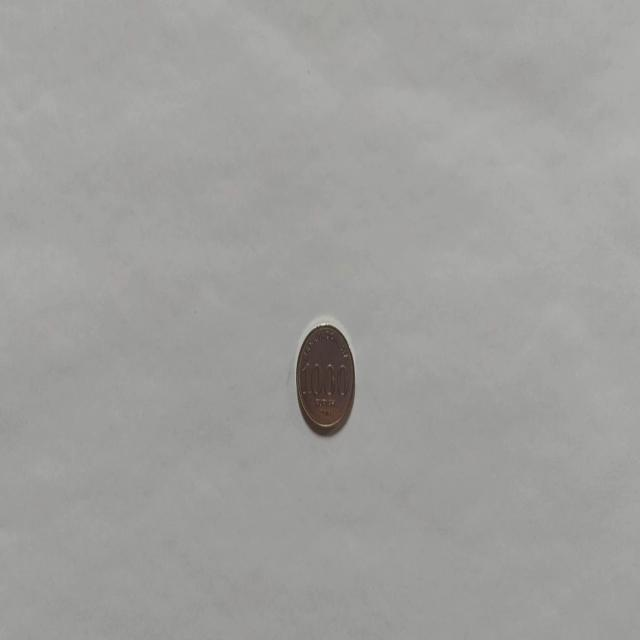seribu rupiah koin: (294, 318, 356, 436)
